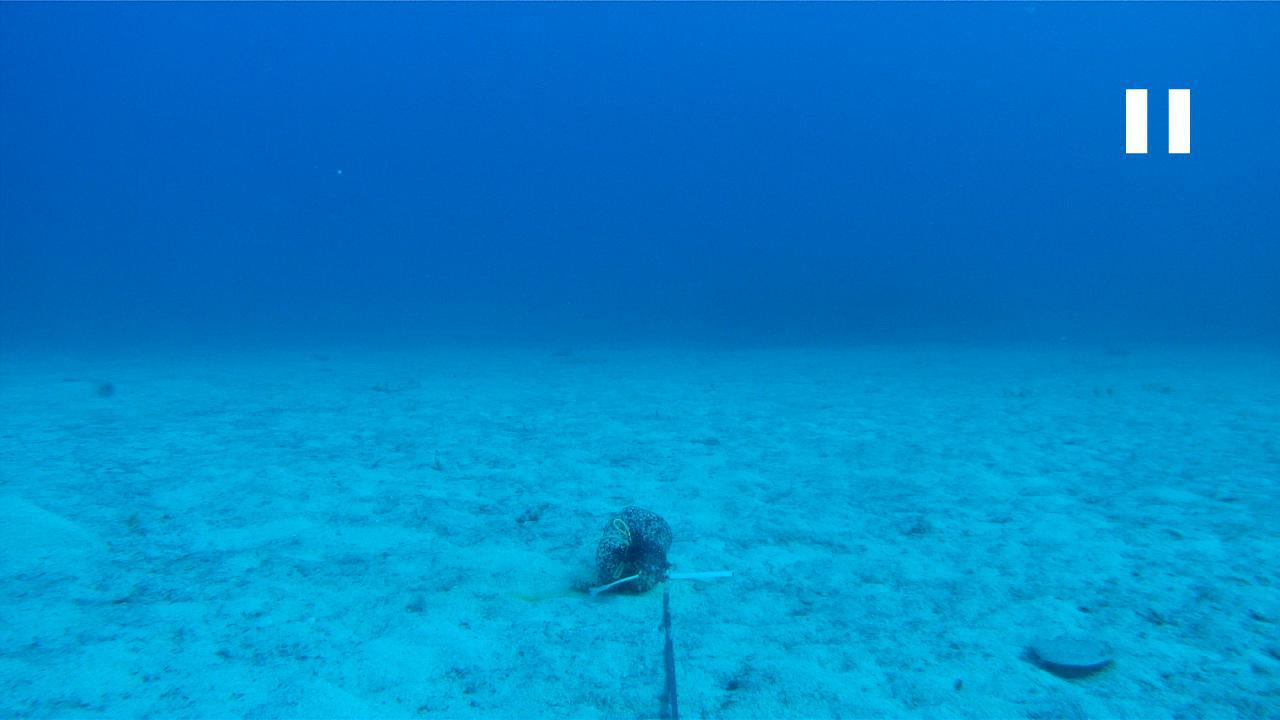bothus: (1016, 630, 1114, 677)
